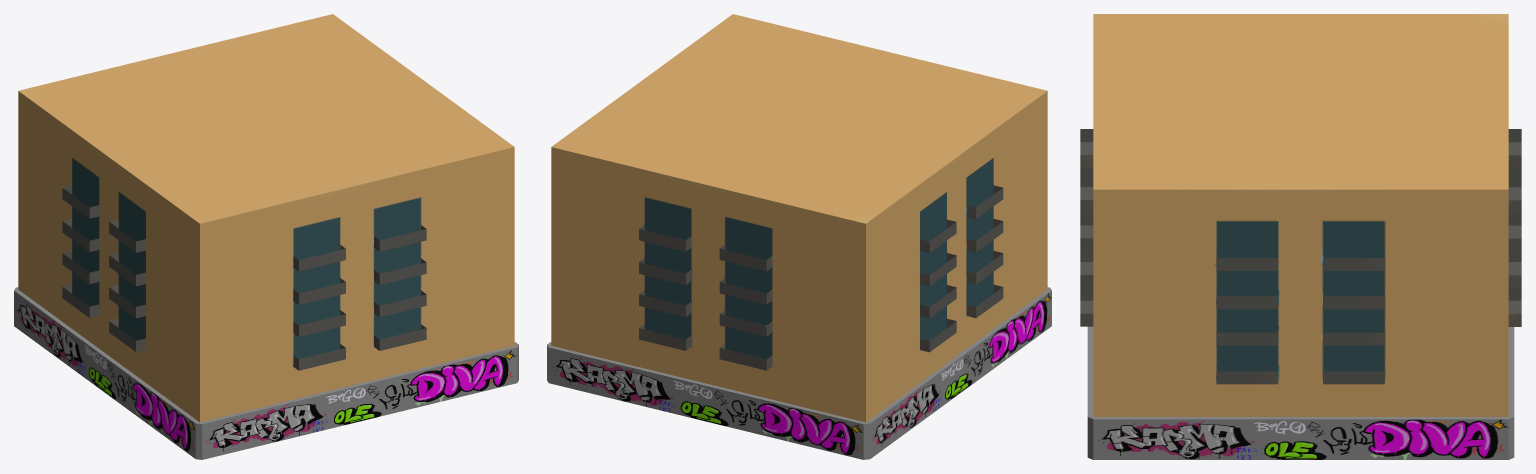
Rendered from Edificio_Balcones 1.fbx.
The picture shows the model from 3 angles, left to right: view 1: azimuth 30°, elevation 25°; view 2: azimuth 150°, elevation 25°; view 3: azimuth 270°, elevation 25°; orthographic projection. The views are drawn at different scales.
Visible parts, largest first — view 1: 136_residential building texture.004; view 2: 136_residential building texture.004; view 3: 136_residential building texture.004.
Part boxes in pixels (x1,y1,x2,y2): 136_residential building texture.004: [14, 14, 518, 459]; 136_residential building texture.004: [547, 14, 1051, 459]; 136_residential building texture.004: [1080, 14, 1521, 459].
Size of the model in its own units: 5527 by 3704 by 5527.
Materials: 1 (1 with a texture image).
